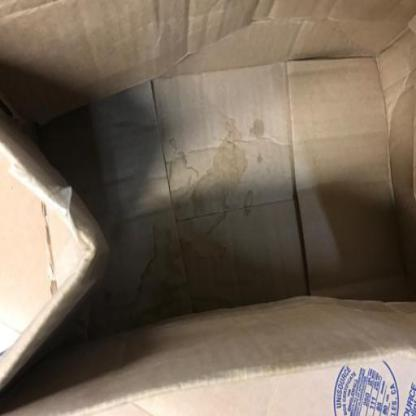CARDBOARD: (0, 0, 415, 415), (0, 0, 416, 135), (41, 296, 415, 415), (150, 70, 312, 316), (0, 108, 105, 415), (282, 54, 408, 306)
